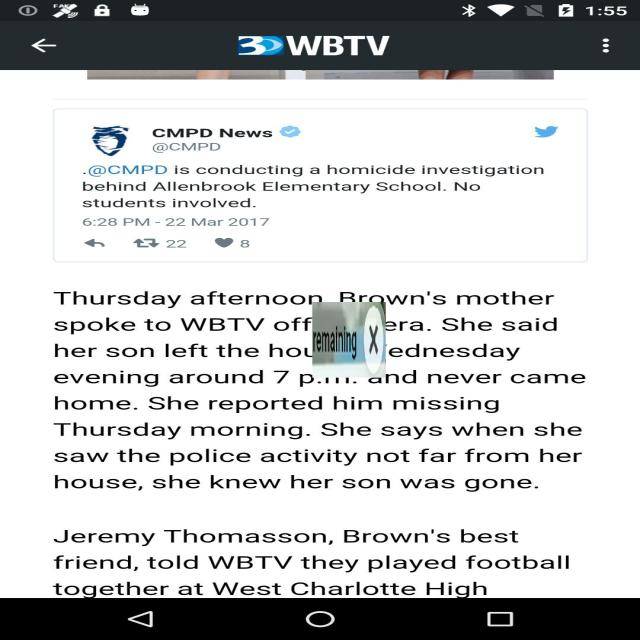misdirection: (312, 302, 386, 378)
